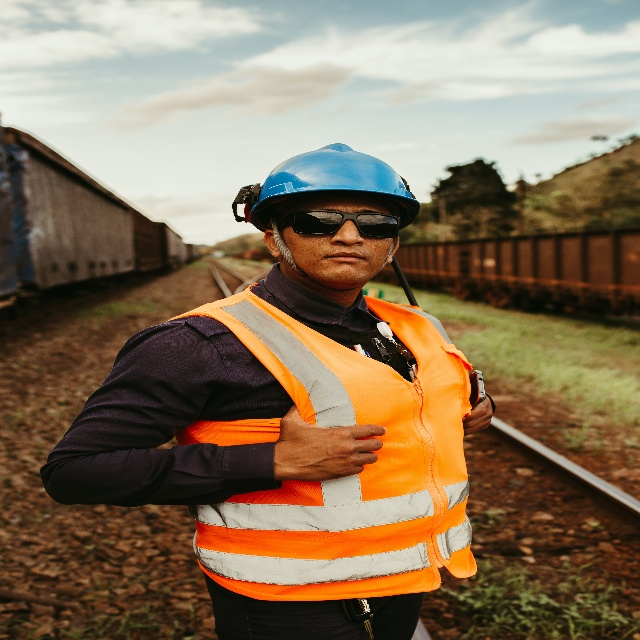Gafas: (278, 207, 399, 241)
Sin_guantes: (276, 405, 386, 482), (462, 395, 493, 437)
